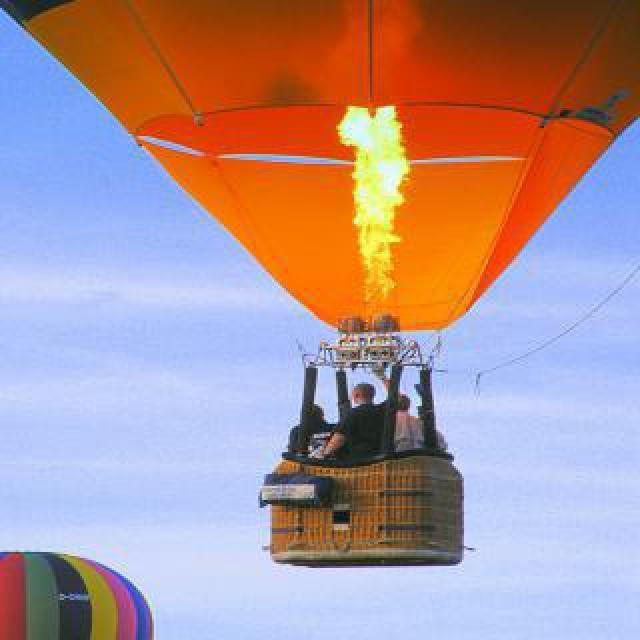zfire: (326, 94, 426, 308)
